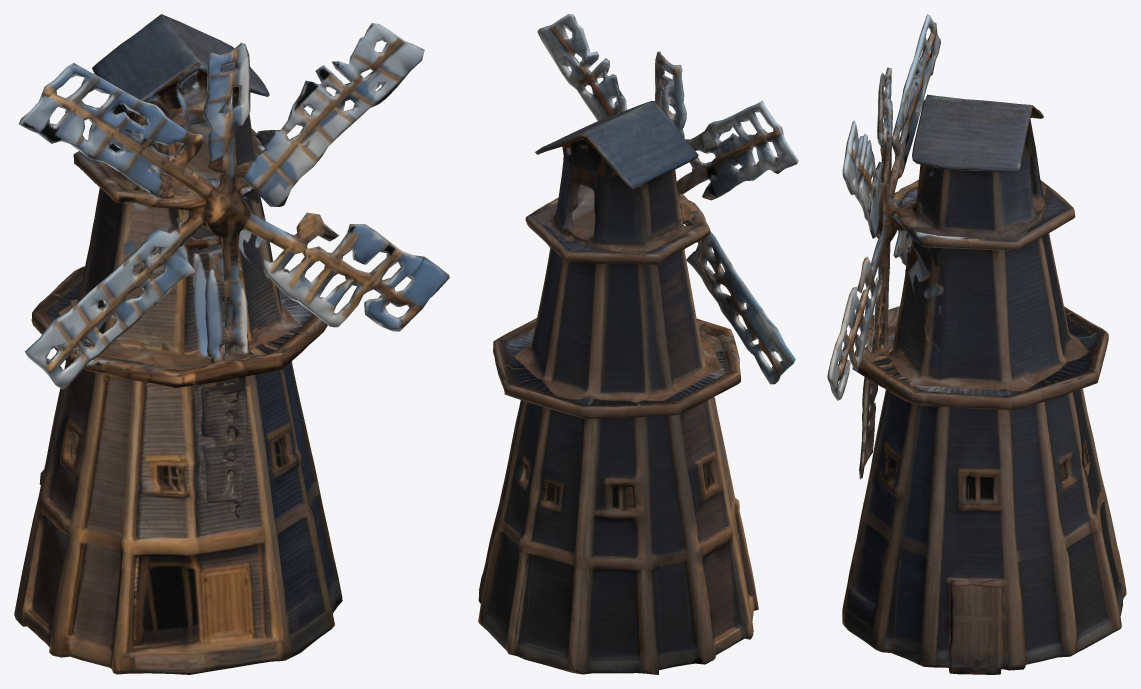
Rendered from windmill.glb.
3 views of the same model, side by side, from view 1: azimuth 30°, elevation 25°; view 2: azimuth 150°, elevation 25°; view 3: azimuth 270°, elevation 25° (orthographic). The views are drawn at different scales.
Visible parts, largest first — view 1: Mesh1.0; view 2: Mesh1.0; view 3: Mesh1.0.
Boxes of the visible parts, x1,y1,x2,y2 form: Mesh1.0: (14, 14, 449, 674); Mesh1.0: (478, 14, 798, 674); Mesh1.0: (827, 14, 1126, 674).
Bounding box in the file's own units: 1.27 × 2.01 × 1.
Materials: 1 (1 with a texture image).
